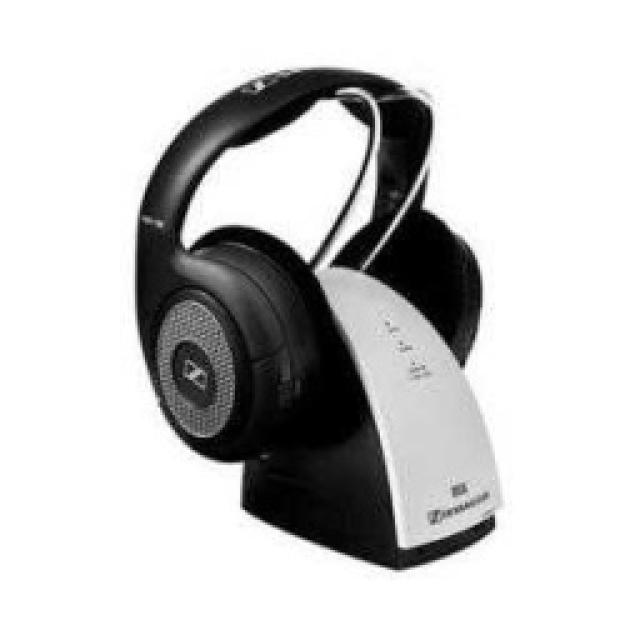headphones: (130, 62, 502, 570)
